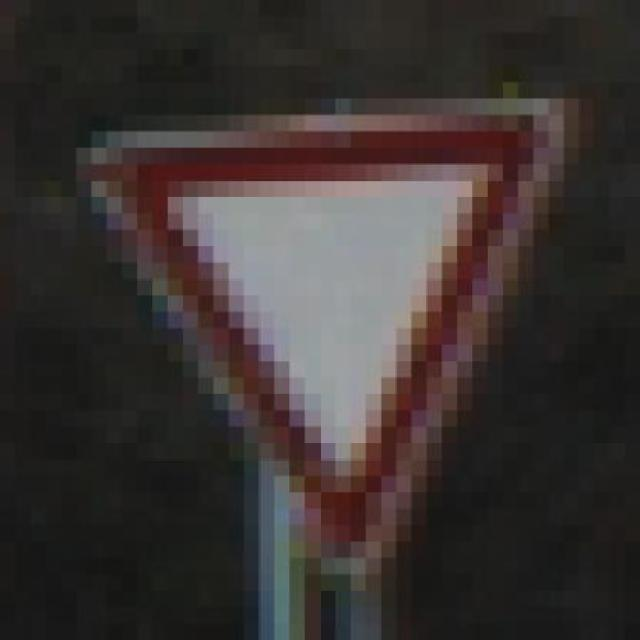Give Way: (61, 80, 610, 589)
